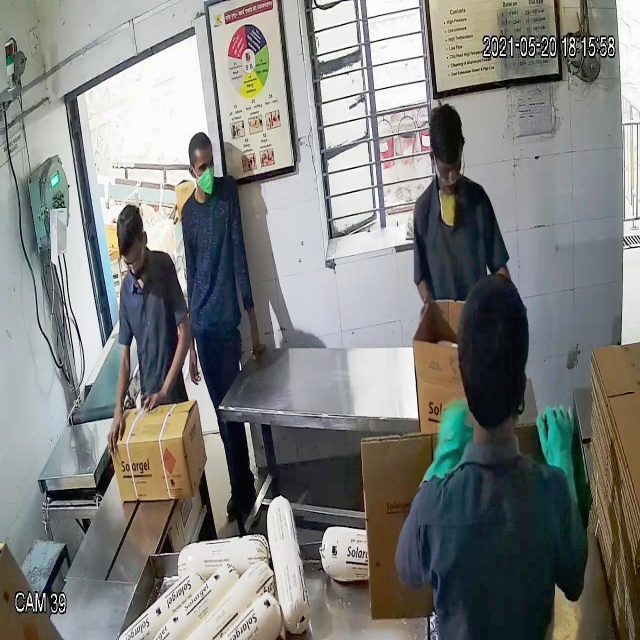Gafas: (431, 146, 467, 189)
